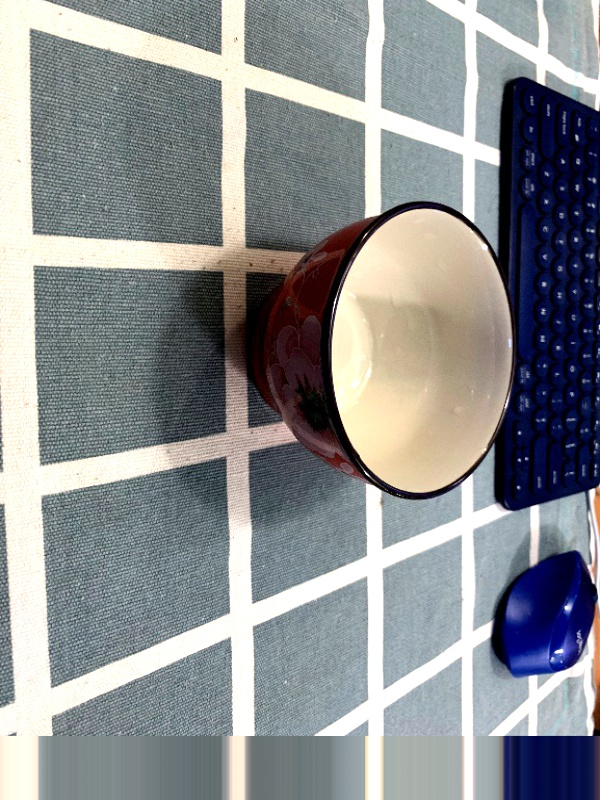bowl_small: (239, 196, 522, 508)
